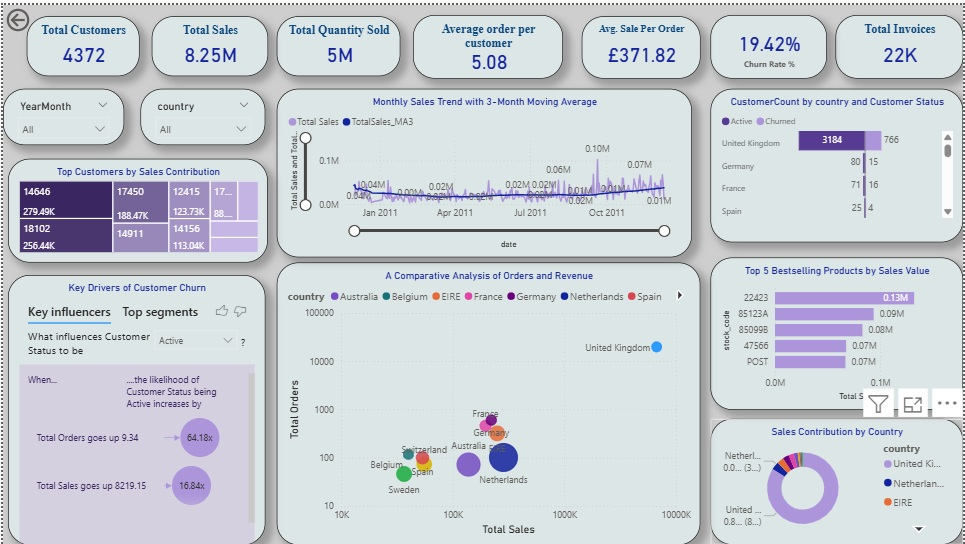

What the dashboard file says about the page in this screenshot:
{"tool":"powerbi","page":{"name":" Online-Retail Sales Overview","canvas":[1280,720],"ordinal":0},"visuals":[{"type":"card","title":"Total Customers","fields":{"Values":["public fact_sales.Total Customers"]},"box":[31.7,15,150,80],"z":0},{"type":"card","title":"Total Sales","fields":{"Values":["public fact_sales.Total Sales"]},"box":[197.6,14.7,154.9,79.6],"z":1000},{"type":"card","title":"Total Quantity Sold","fields":{"Values":["public fact_sales.Total Quantity Sold"]},"box":[365.8,14.7,165.2,79.6],"z":2000},{"type":"card","title":"Average order per customer","fields":{"Values":["public fact_sales.Conversion Rate (%)"]},"box":[546.7,13.3,200,85],"z":3000},{"type":"card","title":"Avg. Sale Per Order","fields":{"Values":["public fact_sales.Average Order Value"]},"box":[771.7,15,158.3,83.3],"z":4000},{"type":"lineChart","title":"Monthly Sales Trend with 3-Month Moving Average","fields":{"Category":["public fact_sales.date"],"Y":["public fact_sales.Total Sales","public fact_sales.TotalSales_MA3"]},"box":[365,111.7,553.3,225],"z":5000},{"type":"slicer","fields":{"Values":["public fact_sales.YearMonth"]},"box":[0,111.7,161.7,75],"z":6000},{"type":"clusteredBarChart","title":"Top 5 Bestselling Products by Sales Value","fields":{"Category":["public fact_sales.stock_code"],"Y":["public fact_sales.Total Sales"]},"box":[943.3,336.7,336.7,203.3],"z":7000},{"type":"card","title":"Total Invoices","fields":{"Values":["public fact_sales.Total Invoices"]},"box":[1110,13.3,170,85],"z":9000},{"type":"donutChart","title":"Sales Contribution by Country","fields":{"Category":["public dim_customer.country"],"Y":["public fact_sales.Sales % of Total"]},"box":[943.3,551.7,336.7,168.3],"z":10000},{"type":"actionButton","box":[0,0,100,40],"z":12000},{"type":"treemap","title":"Top Customers by Sales Contribution","fields":{"Group":["public dim_customer.customer_id"],"Values":["public fact_sales.Total Sales"]},"box":[6.7,205,346.7,138.3],"z":13000},{"type":"slicer","fields":{"Values":["public dim_customer.country"]},"box":[183.3,111.7,166.7,75],"z":14000},{"type":"scatterChart","title":"A Comparative Analysis of Orders and Revenue","fields":{"Size":["public fact_sales.AvgSalePerOrder"],"Series":["public dim_customer.country"],"Y":["public fact_sales.Total Orders"],"X":["public fact_sales.Total Sales"]},"box":[365,343.3,565,376.7],"z":15000},{"type":"card","fields":{"Values":["public dim_customer.Churn Rate %"]},"box":[943.3,13.3,155,85],"z":16002},{"type":"keyDriversVisual","title":"Key Drivers of Customer Churn","fields":{"Target":["public dim_customer.Customer Status"],"ExplainBy":["public dim_customer.country","public fact_sales.Total Orders","public fact_sales.Total Sales"]},"box":[6.7,360,343.3,360],"z":16003},{"type":"TornadoChart1452517688218","fields":{"Series":["public dim_customer.Customer Status"],"Category":["public dim_customer.country"],"Values":["public dim_customer.CustomerCount"]},"box":[943.3,111.7,336.7,205],"z":16004}]}

Visuals, with their boxes in screenshot pixels (x1, y1, x2, y2), scaled from the page's 1280x720 canvas onto the 965x544 screenshot:
"Total Customers" card: x1=24 y1=11 x2=137 y2=72
"Total Sales" card: x1=149 y1=11 x2=266 y2=71
"Total Quantity Sold" card: x1=276 y1=11 x2=400 y2=71
"Average order per customer" card: x1=412 y1=10 x2=563 y2=74
"Avg. Sale Per Order" card: x1=582 y1=11 x2=701 y2=74
"Monthly Sales Trend with 3-Month Moving Average" lineChart: x1=275 y1=84 x2=692 y2=254
slicer - public fact_sales.YearMonth: x1=0 y1=84 x2=122 y2=141
"Top 5 Bestselling Products by Sales Value" clusteredBarChart: x1=711 y1=254 x2=964 y2=408
"Total Invoices" card: x1=837 y1=10 x2=964 y2=74
"Sales Contribution by Country" donutChart: x1=711 y1=417 x2=964 y2=543
actionButton: x1=0 y1=0 x2=75 y2=30
"Top Customers by Sales Contribution" treemap: x1=5 y1=155 x2=266 y2=259
slicer - public dim_customer.country: x1=138 y1=84 x2=264 y2=141
"A Comparative Analysis of Orders and Revenue" scatterChart: x1=275 y1=259 x2=701 y2=543
card - public dim_customer.Churn Rate %: x1=711 y1=10 x2=828 y2=74
"Key Drivers of Customer Churn" keyDriversVisual: x1=5 y1=272 x2=264 y2=543
TornadoChart1452517688218 - public dim_customer.Customer Status x public dim_customer.country: x1=711 y1=84 x2=964 y2=239
